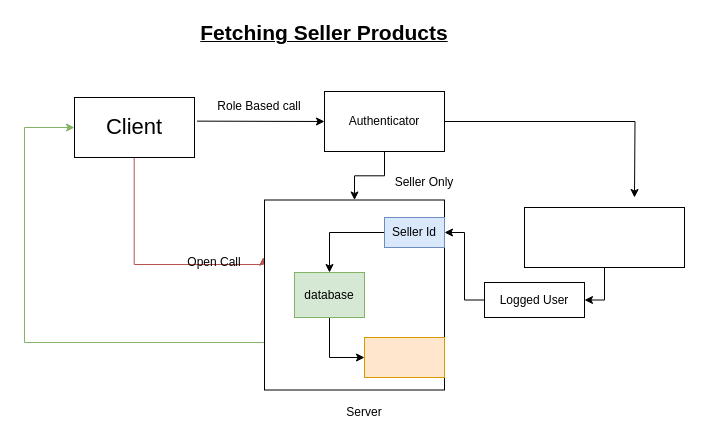
This 702x444 diagram has some shape labels left out. The box of each missing label's shape, as (x1, y1, x2, y2) in pixels:
principal (Seller): (524, 206, 684, 268)
products of Seller: (364, 336, 444, 378)
